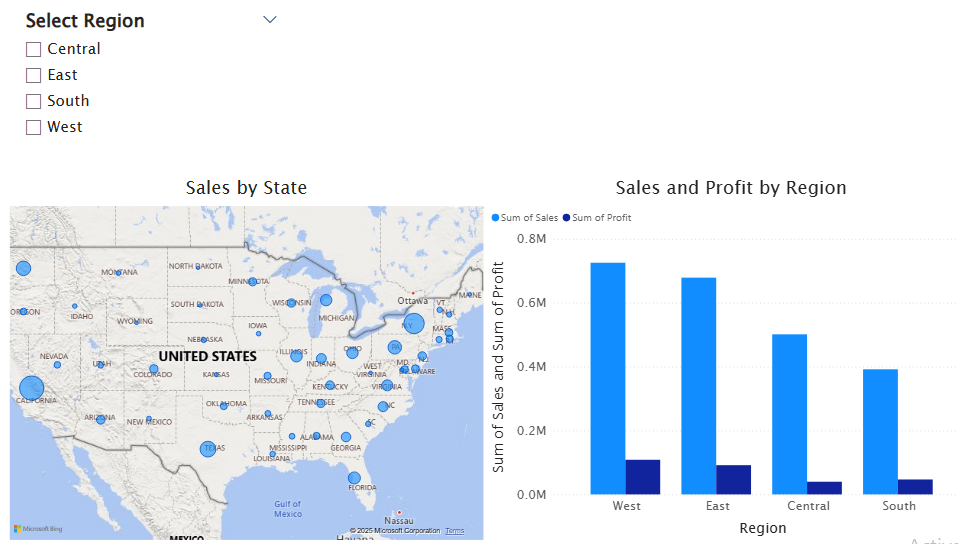

The page's visual inventory and layout, read from the dashboard file:
{"tool":"powerbi","page":{"name":"Regional Analysis","canvas":[1280,720],"ordinal":2},"visuals":[{"type":"map","title":"Sales by State","fields":{"Category":["updated_superstore.State"],"Size":["Sum(updated_superstore.Sales)"]},"box":[10.1,236.2,629.9,483.8],"z":0},{"type":"clusteredColumnChart","title":"Sales and Profit by Region","fields":{"Category":["updated_superstore.Region"],"Y":["Sum(updated_superstore.Sales)","Sum(updated_superstore.Profit)"]},"box":[640,236.2,640,483.8],"z":1000},{"type":"slicer","fields":{"Values":["updated_superstore.Region"]},"box":[23.5,11.8,354.4,196.5],"z":2000}]}

Visuals, with their boxes in screenshot pixels (x1, y1, x2, y2), scaled from the page's 1280x720 canvas onto the 958x544 screenshot:
"Sales by State" map: <bbox>8, 178, 479, 543</bbox>
"Sales and Profit by Region" clusteredColumnChart: <bbox>479, 178, 957, 543</bbox>
slicer - updated_superstore.Region: <bbox>18, 9, 283, 157</bbox>
